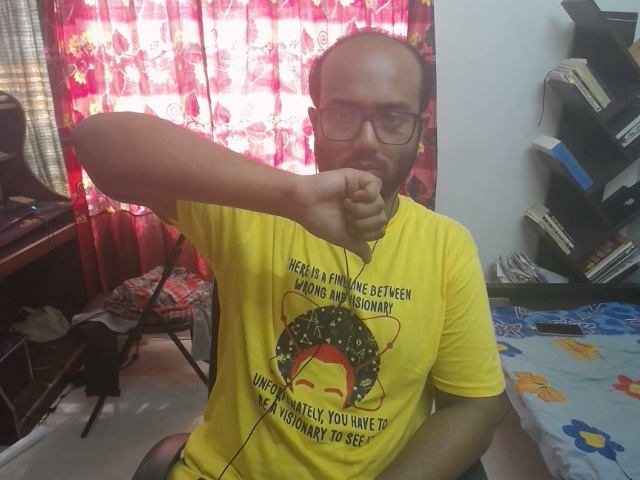nine: (291, 134, 416, 283)
